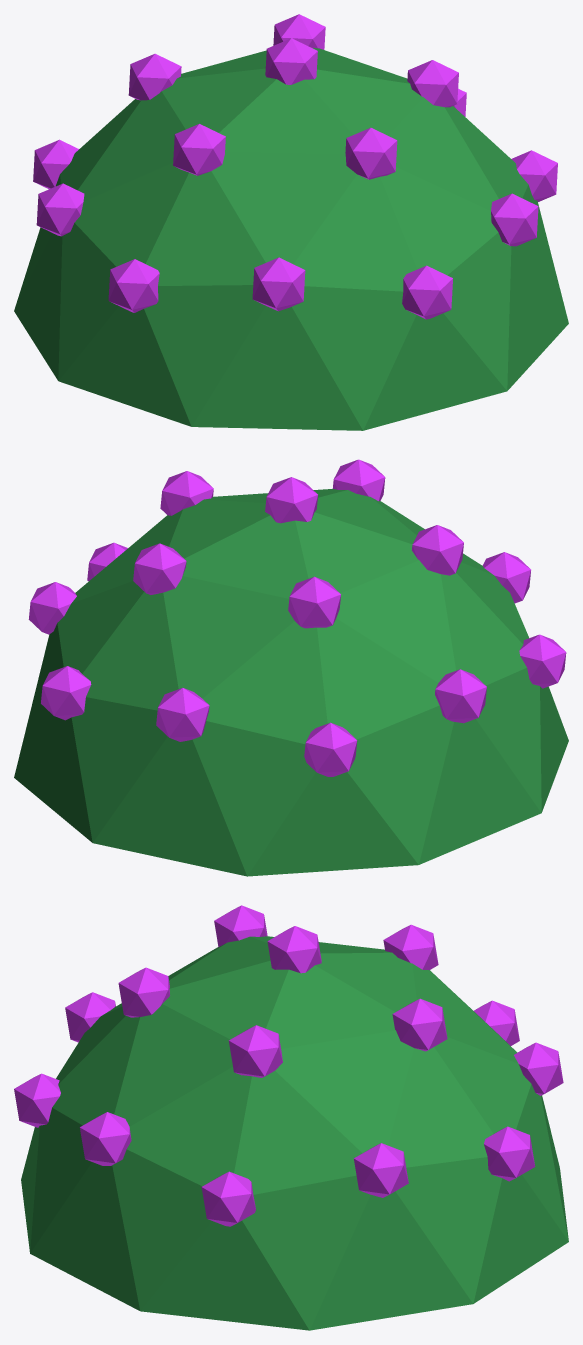
File: BushFruitsPurple.fbx
3 renders of one model, top to bottom at view 1: azimuth 30°, elevation 25°; view 2: azimuth 150°, elevation 25°; view 3: azimuth 270°, elevation 25°, orthographic. The views are drawn at different scales.
Visible parts, largest first — view 1: BushFruitsPurple; view 2: BushFruitsPurple; view 3: BushFruitsPurple.
Boxes of the visible parts, box(x1,y1,x2,y2) form: BushFruitsPurple: box(14, 14, 568, 430); BushFruitsPurple: box(14, 459, 568, 876); BushFruitsPurple: box(14, 905, 568, 1330).
Size of the model in its own units: 605 by 336 by 592.
